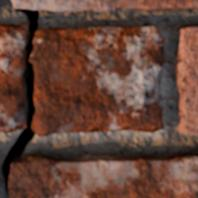brick: (8, 154, 197, 197), (175, 27, 197, 134), (12, 0, 197, 10)
broken_brick: (30, 25, 165, 136), (0, 22, 26, 133)
crack: (0, 2, 40, 195)
